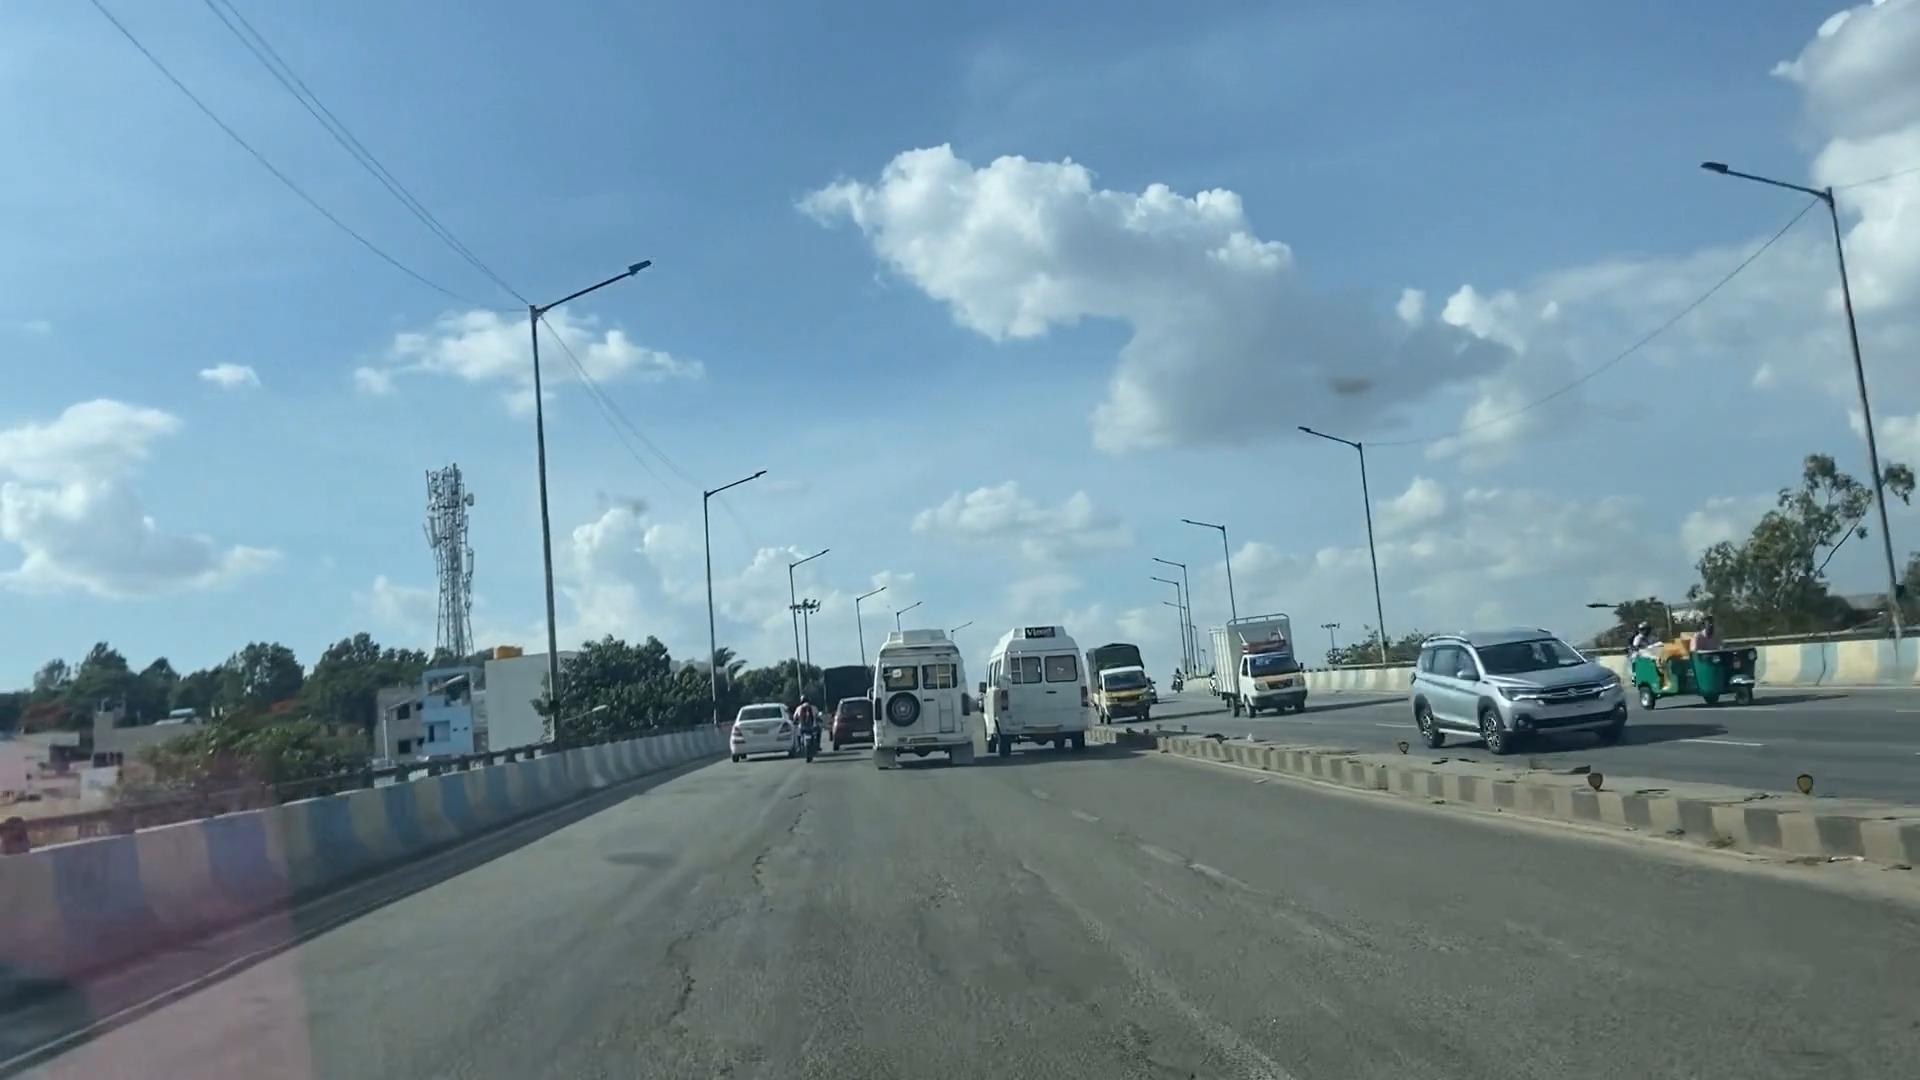HMV: (865, 615, 982, 766), (994, 611, 1085, 761)
RoadDamages: (932, 807, 1261, 1080), (629, 824, 901, 1080), (1100, 790, 1400, 994)
